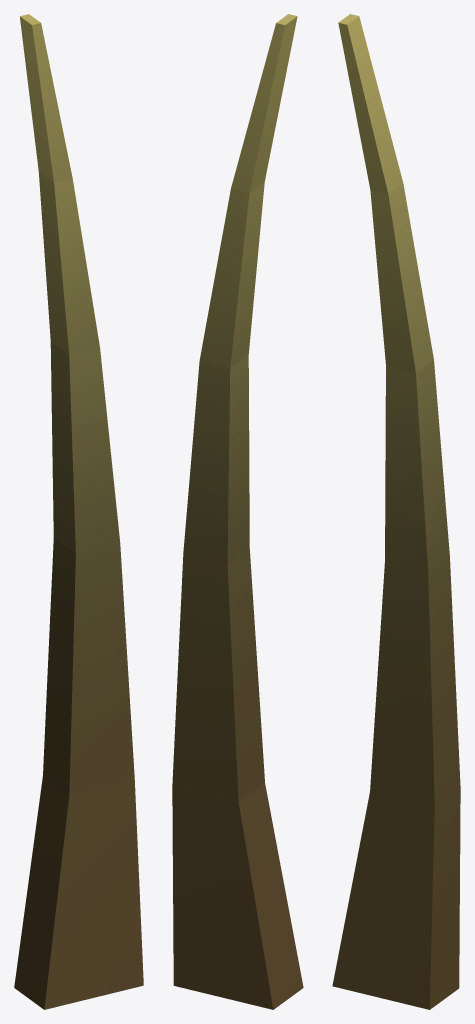
File: grass0.fbx
The picture shows the model from 3 angles, left to right: view 1: azimuth 30°, elevation 25°; view 2: azimuth 150°, elevation 25°; view 3: azimuth 330°, elevation 25°; orthographic projection. The views are drawn at different scales.
Parts seen in each view (by area): view 1: grass; view 2: grass; view 3: grass.
Part boxes in pixels (box(x1,y1,x2,y2)): grass: box(14, 14, 143, 1009); grass: box(172, 14, 303, 1009); grass: box(332, 14, 460, 1009).
Size of the model in its own units: 5.54 by 9.76 by 88.92.
